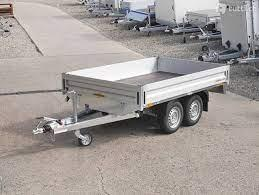trailer: (62, 56, 230, 115)
